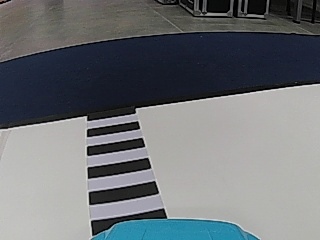CrossWalk: (84, 112, 168, 220)
